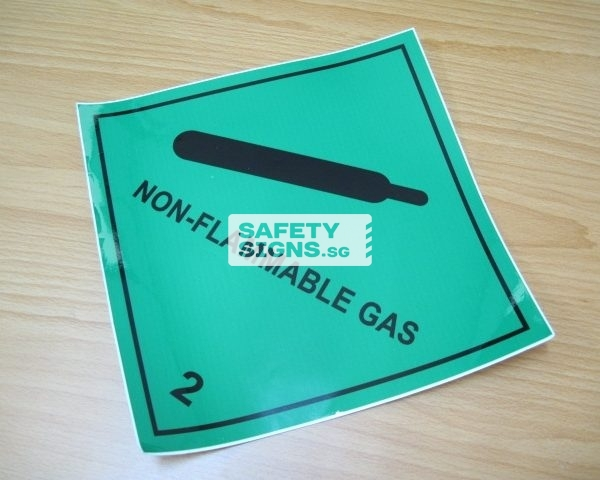NonFlammableGas: (76, 28, 553, 455)
